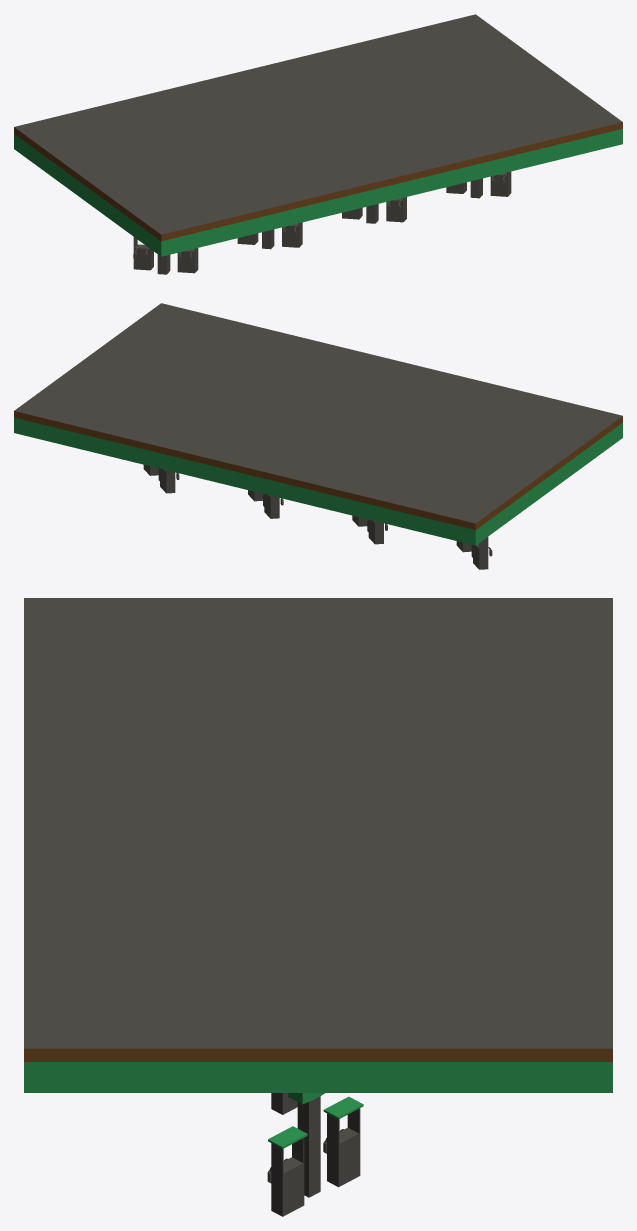
The model's file is posto_2.fbx.
3 views of the same model, one above another, from view 1: azimuth 30°, elevation 25°; view 2: azimuth 150°, elevation 25°; view 3: azimuth 270°, elevation 25° (orthographic). The views are drawn at different scales.
Parts seen in each view (by area): view 1: Cube; view 2: Cube; view 3: Cube.
Boxes of the visible parts, left/top/right/bottom form: Cube: left=14, top=14, right=622, bottom=274; Cube: left=14, top=303, right=622, bottom=569; Cube: left=24, top=598, right=612, bottom=1216.
Size of the model in its own units: 10390 by 2323 by 5740.
